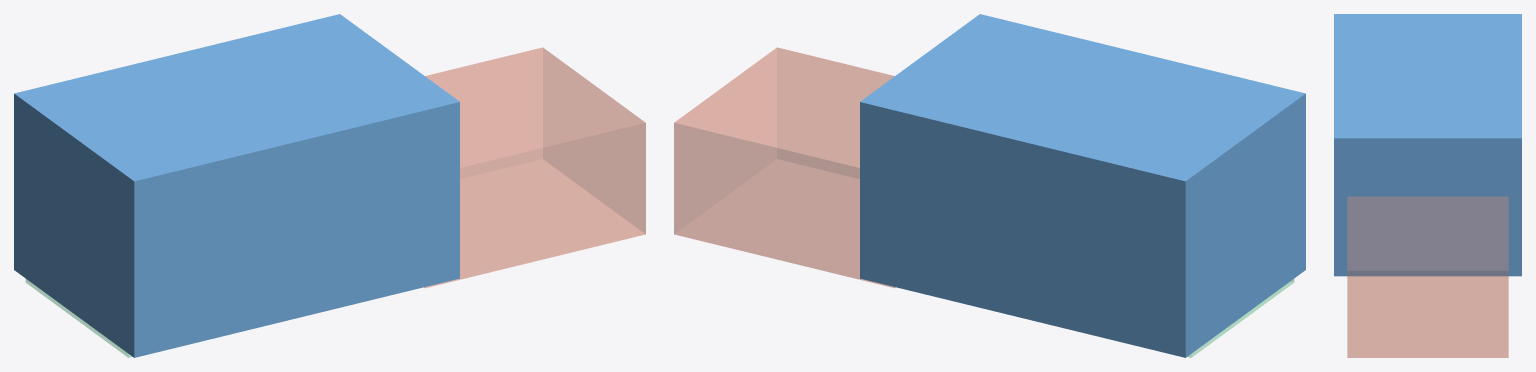
File: envelopes.glb
3 renders of one model, left to right at view 1: azimuth 30°, elevation 25°; view 2: azimuth 150°, elevation 25°; view 3: azimuth 270°, elevation 25°, orthographic. The views are drawn at different scales.
Visible parts, largest first — view 1: CABIN_ENVELOPE, ENGINE_BAY; view 2: CABIN_ENVELOPE, ENGINE_BAY; view 3: CABIN_ENVELOPE, ENGINE_BAY.
Part boxes in pixels (box(x1,y1,x2,y2)): CABIN_ENVELOPE: box(14, 14, 459, 357); ENGINE_BAY: box(424, 47, 645, 287); CABIN_ENVELOPE: box(860, 14, 1305, 357); ENGINE_BAY: box(674, 47, 895, 287); CABIN_ENVELOPE: box(1334, 14, 1521, 276); ENGINE_BAY: box(1347, 197, 1508, 357).
Bounding box in the file's own units: 3.95 × 1.35 × 1.58.
